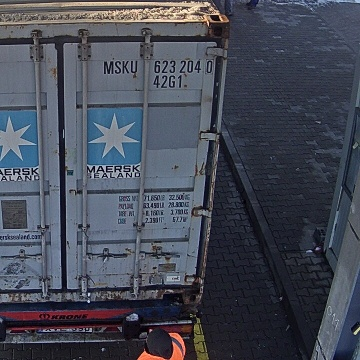serial_id: (103, 60, 213, 73)
